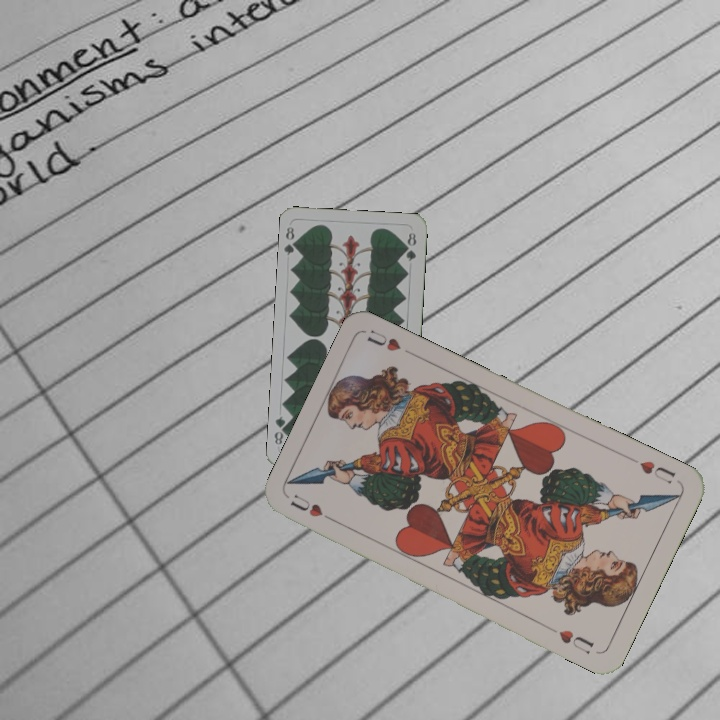G8: (281, 223, 301, 258)
HU: (286, 490, 340, 526), (635, 456, 678, 487)
